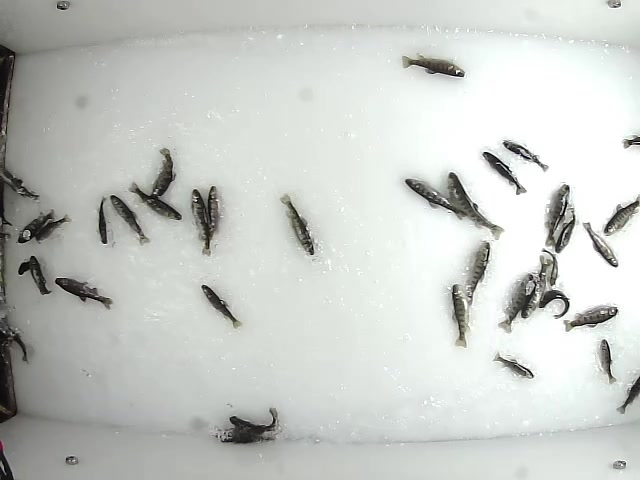fish: (446, 170, 505, 240), (399, 174, 470, 223), (496, 268, 536, 335), (278, 190, 316, 258), (478, 150, 528, 198), (127, 181, 184, 221), (108, 194, 151, 246), (521, 252, 553, 319), (53, 276, 115, 310), (578, 221, 621, 270), (461, 240, 491, 307), (199, 284, 241, 331), (542, 181, 570, 249), (399, 53, 468, 79), (500, 138, 551, 173), (561, 302, 620, 332), (601, 193, 640, 237), (15, 207, 56, 246), (448, 280, 470, 350), (198, 185, 219, 258), (148, 146, 177, 198), (227, 404, 279, 432), (186, 190, 212, 244), (492, 350, 536, 381), (36, 210, 74, 244), (25, 253, 53, 298), (536, 288, 570, 321), (553, 206, 576, 254), (596, 338, 618, 385), (218, 428, 273, 443), (96, 193, 111, 246), (540, 247, 559, 288), (16, 258, 44, 278)
